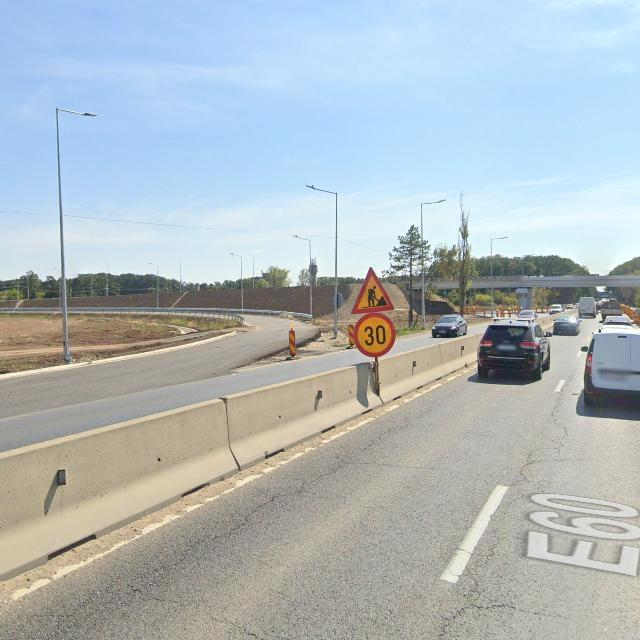forb_speed_over_30: (354, 313, 396, 357)
